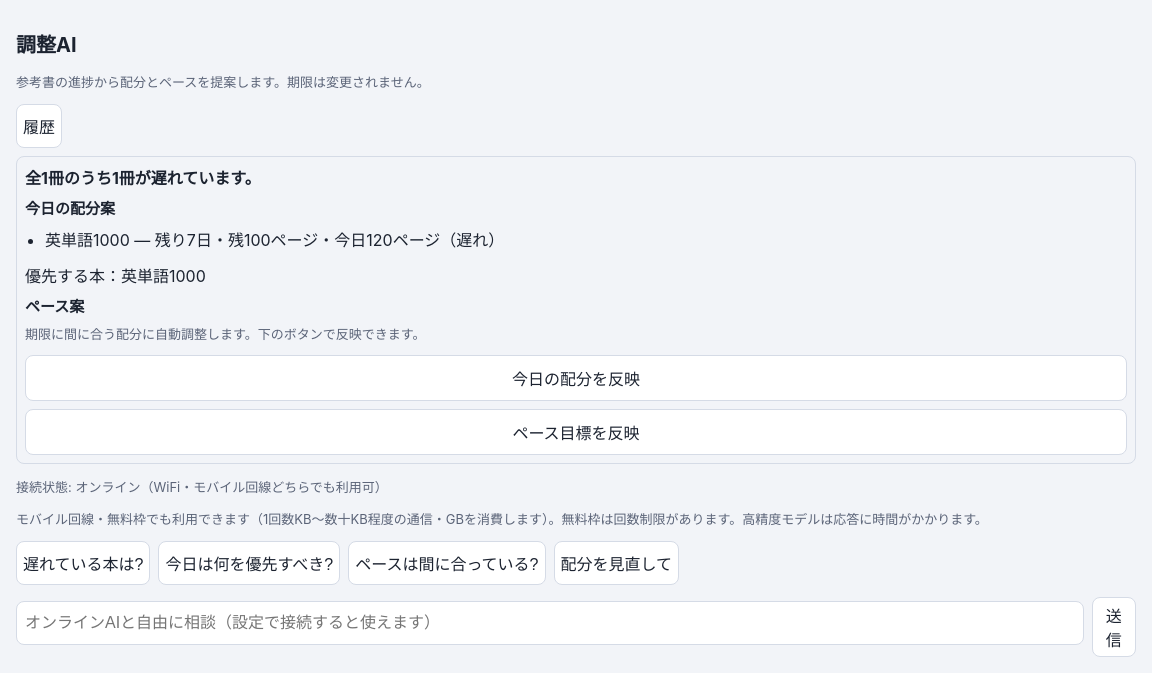
Test: ChatScreen › shows an http-status message with retry
Expected: the text "全1冊のうち1冊が遅れています。" is shown, [25, 168, 261, 188]
Type "こんにちは" into the field with test id "chat-input". click: x=550, y=623
box: [16, 601, 1084, 645]
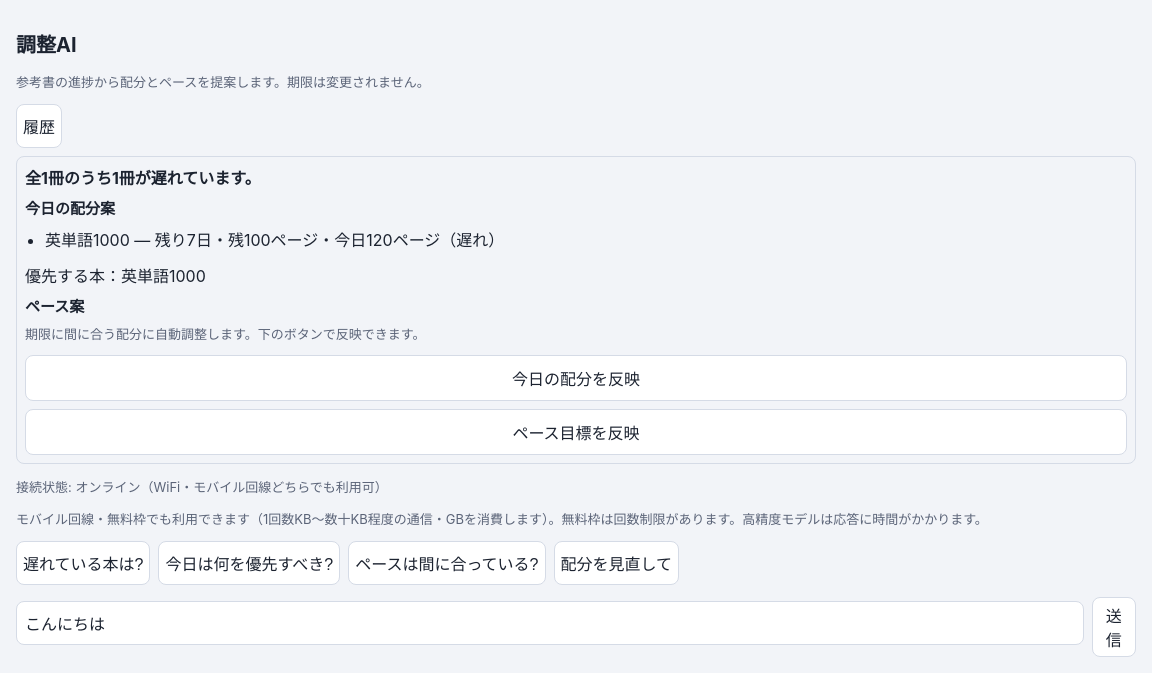
Click the button with test id "chat-send". click: x=1114, y=627
box: [1092, 597, 1136, 657]
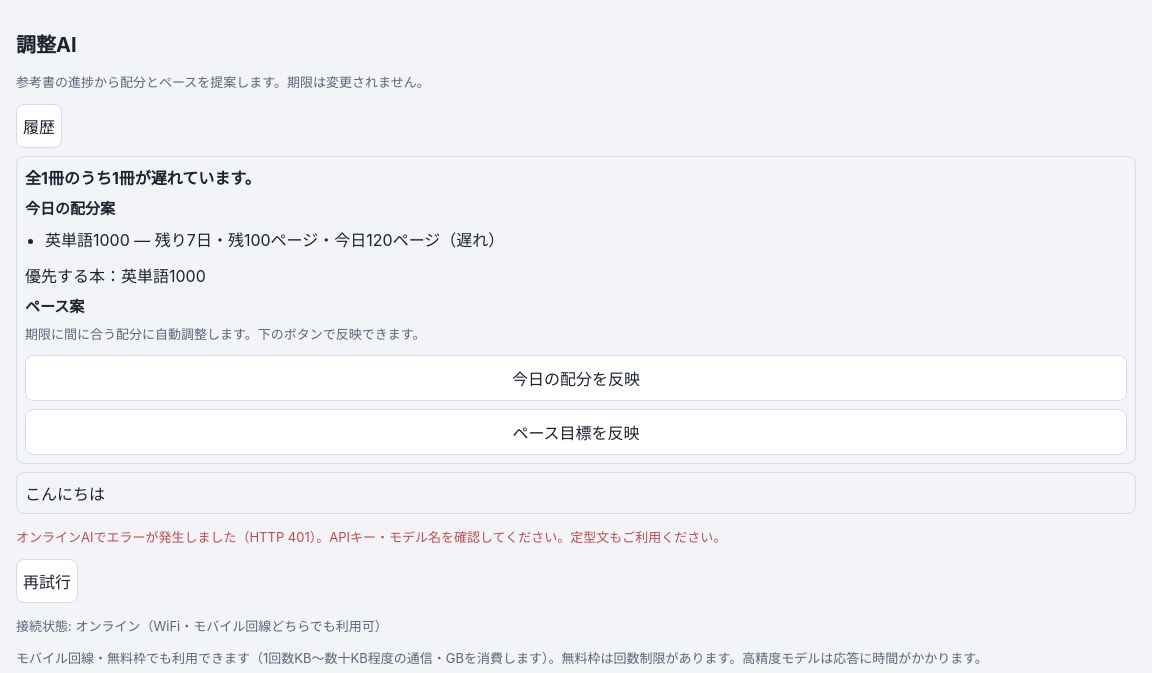
Expected: the text with test id "chat-error" shows "401", [16, 529, 726, 545]
Expected: the button with test id "chat-retry" is shown, [16, 559, 78, 603]
